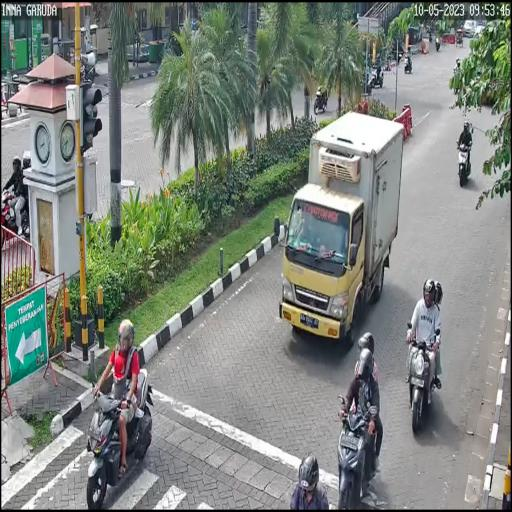mobil: (273, 104, 403, 342)
motor: (86, 368, 153, 511), (338, 392, 377, 512), (406, 320, 442, 436), (455, 132, 473, 190)
